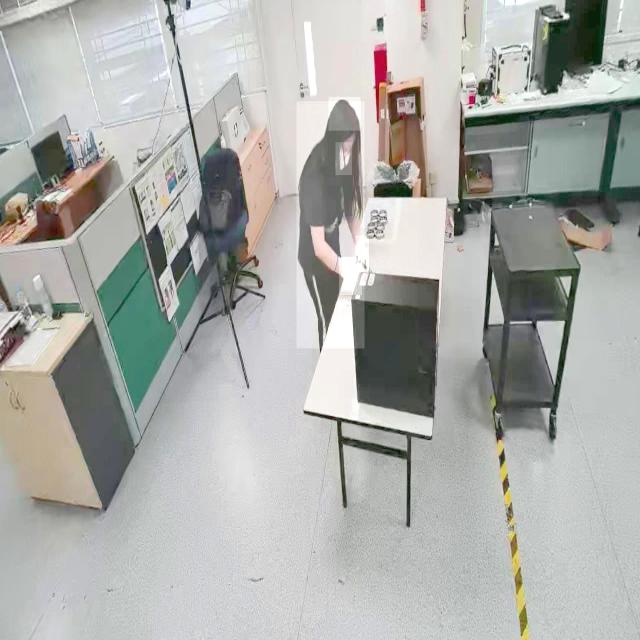face_mask: (336, 142, 352, 175)
hand_glove: (338, 257, 362, 296), (355, 235, 369, 273)
head_nohelmet: (328, 97, 360, 131)
person: (296, 102, 364, 350)
